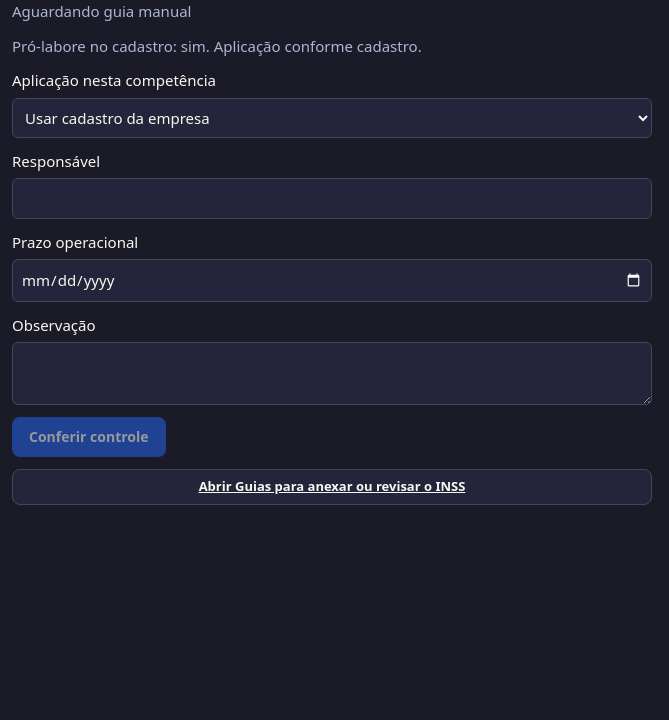
salva somente controle após prévia e exige motivo para exceção mensal
Select "Não se aplica" in the dropdown labelled "Aplicação nesta competência" at (332, 118), box [12, 98, 652, 138]
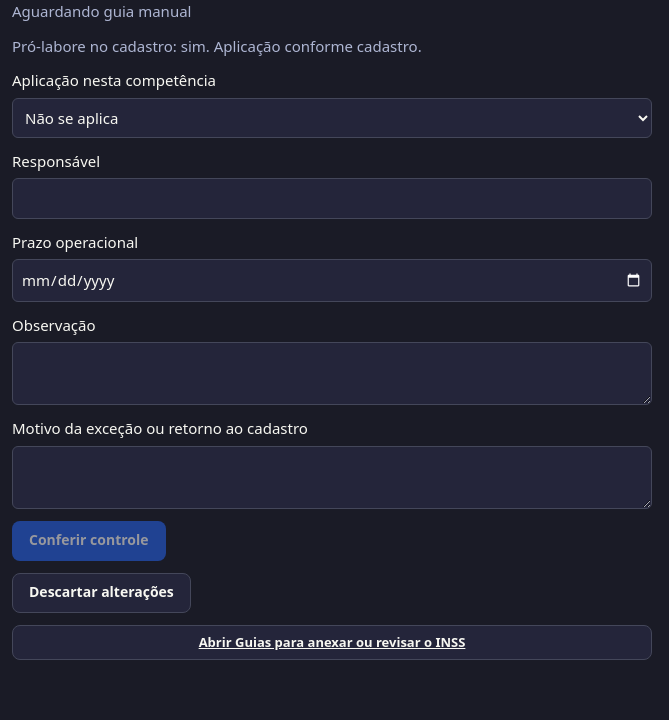
Expected: the button "Conferir controle" is disabled, [12, 520, 166, 560]
Type "Sem retirada neste mês" into the text box labelled "Motivo da exceção ou retorno ao cadastro" at (332, 477), box [12, 446, 652, 508]
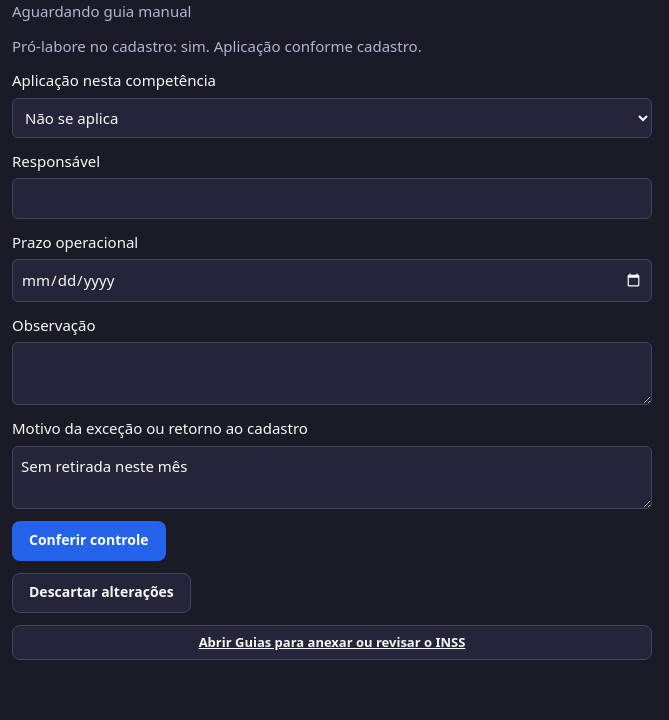
Click the button "Conferir controle" at (89, 540), box [12, 520, 166, 560]
(page scrolled)
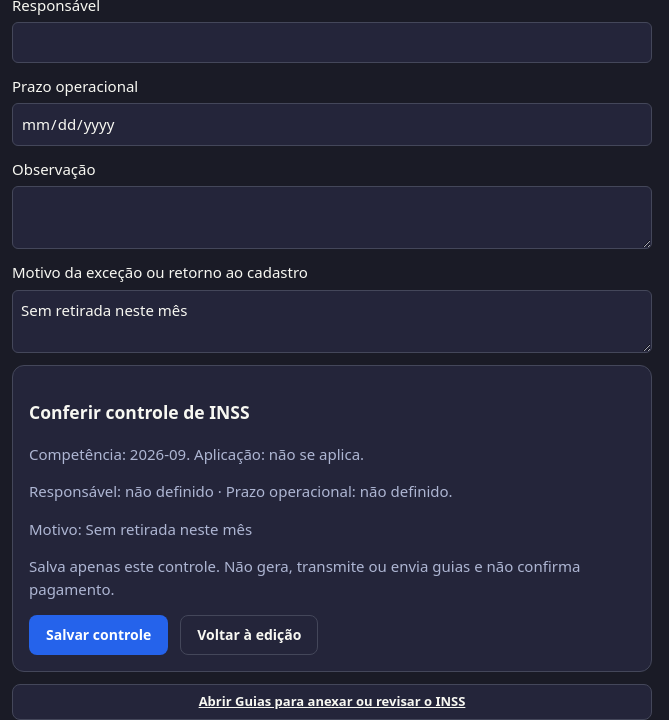
Click the button "Salvar controle" at (99, 635), box [29, 615, 168, 655]
(page scrolled)
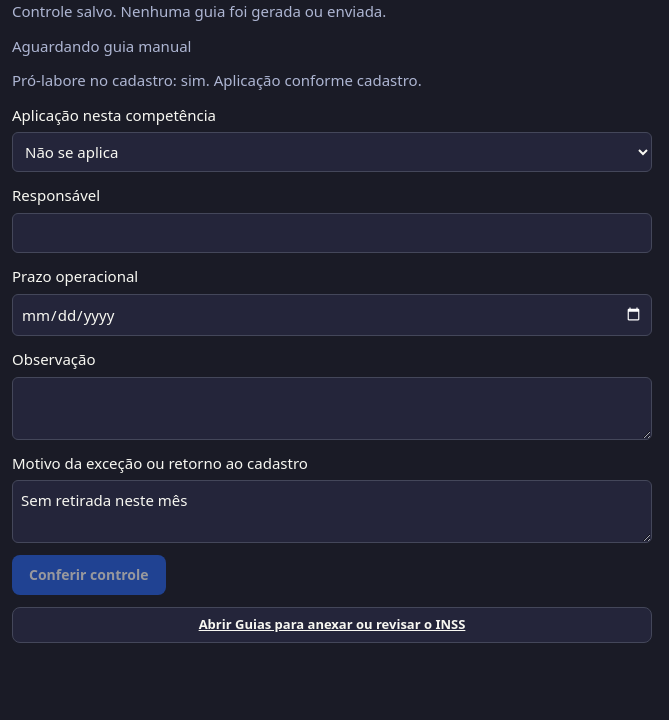
Expected: the text "Controle salvo. Nenhuma guia foi gerada ou enviada." is shown, [12, 1, 386, 21]
